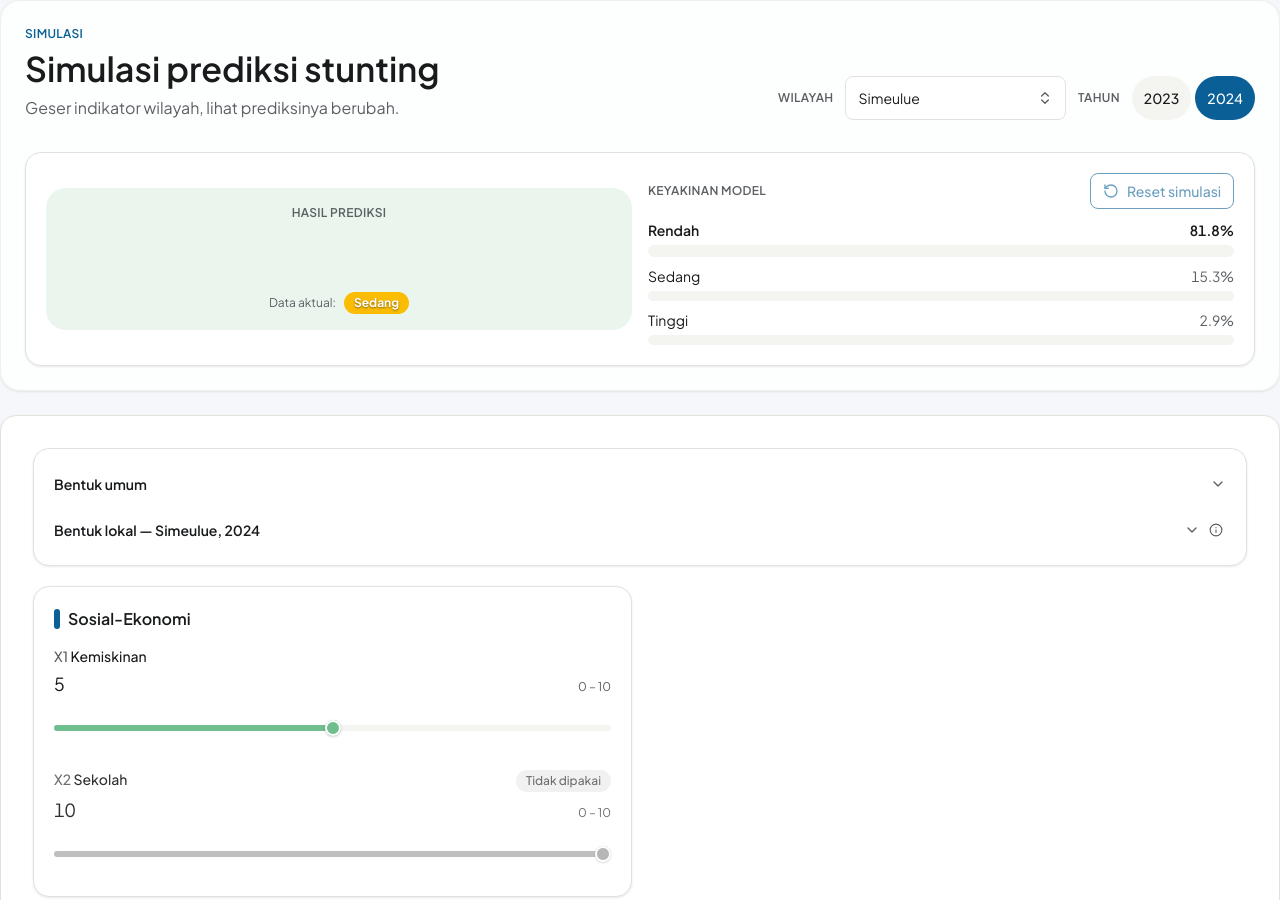
Test case: PredictorSimulator › recomputes the class live when a slider moves
The image size is (1280, 900).
Set the slider named "Kemiskinan" to "0" at (96, 681), box [54,670,611,750]
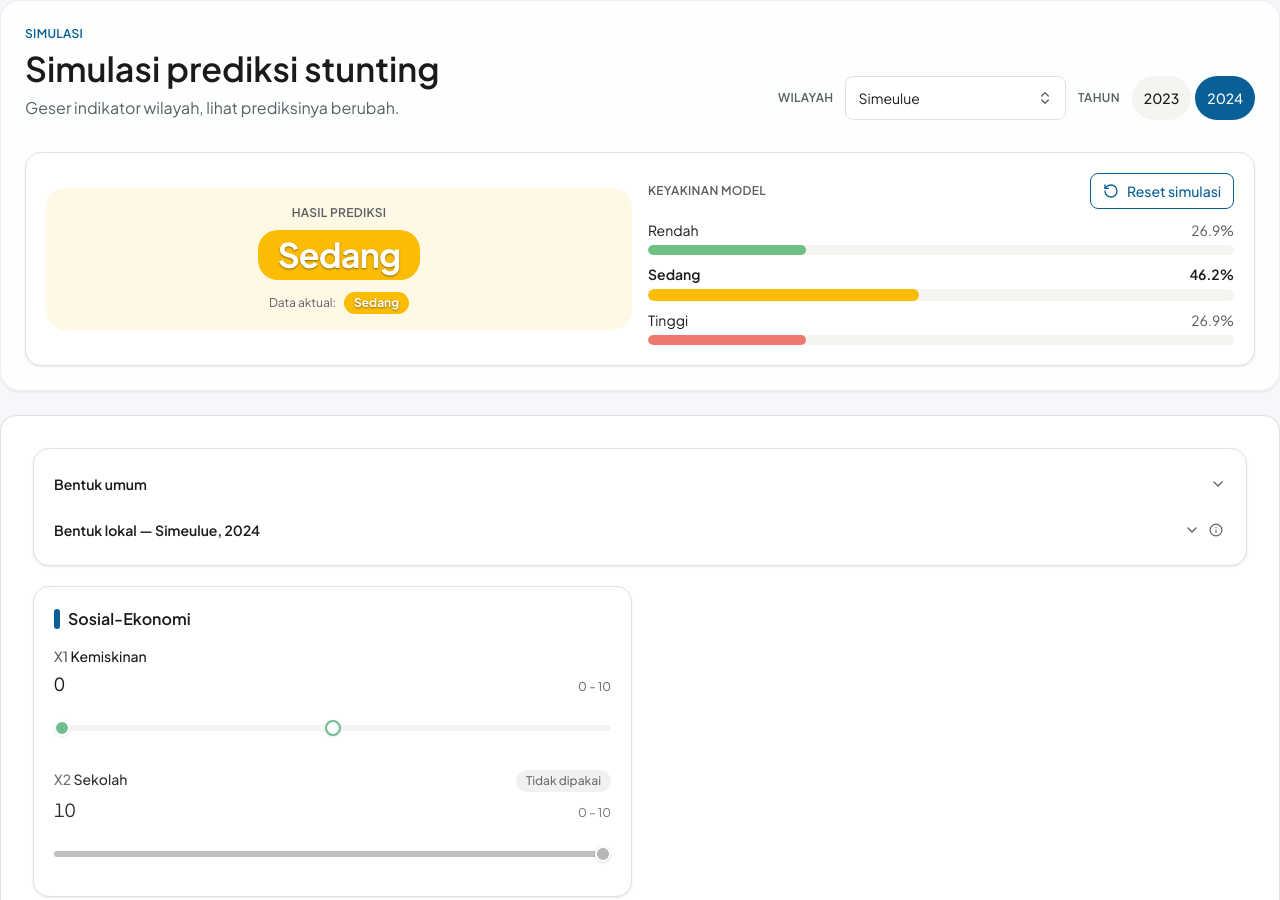
Check: the element with test id "predicted-class" reads "Sedang", box [278,233,400,276]
